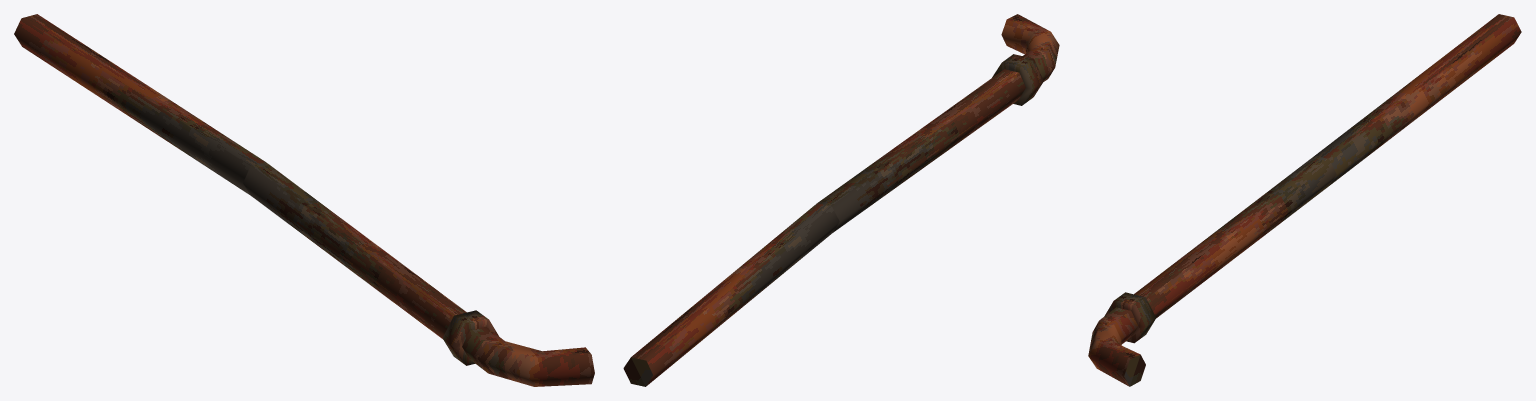
3 renders of one model, left to right at view 1: azimuth 30°, elevation 25°; view 2: azimuth 150°, elevation 25°; view 3: azimuth 330°, elevation 25°, orthographic. The views are drawn at different scales.
Visible parts, largest first — view 1: pipe.001; view 2: pipe.001; view 3: pipe.001.
Boxes of the visible parts, x1,y1,x2,y2 form: pipe.001: (14, 14, 594, 386); pipe.001: (623, 14, 1059, 386); pipe.001: (1088, 14, 1521, 386).
Size of the model in its own units: 0.258 by 0.106 by 2.29.
Materials: 1 (1 with a texture image).
